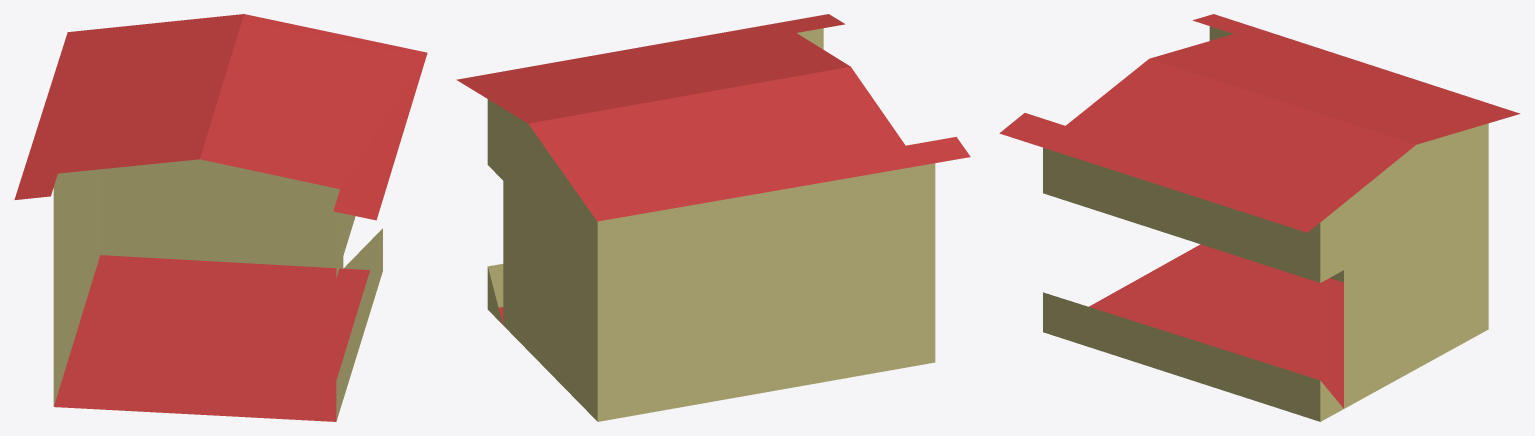
3 renders of one model, left to right at view 1: azimuth 30°, elevation 25°; view 2: azimuth 150°, elevation 25°; view 3: azimuth 270°, elevation 25°, orthographic. The views are drawn at different scales.
Size of the model in its own units: 19.57 by 19.77 by 9.82.
